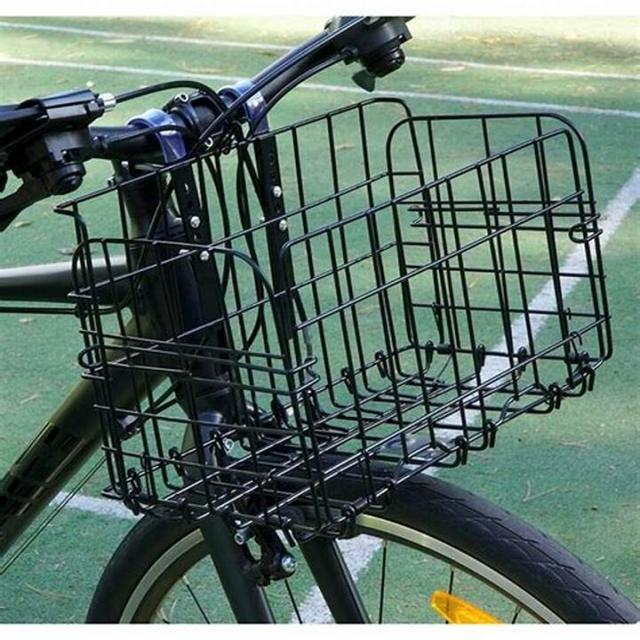basket: (53, 97, 616, 542)
